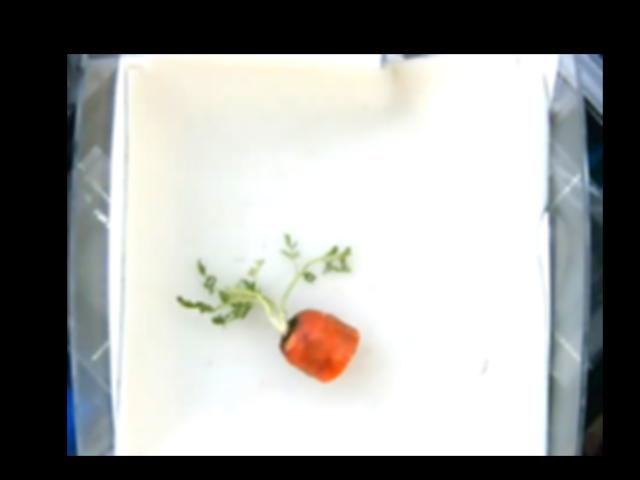Carrot: (176, 234, 358, 383)
